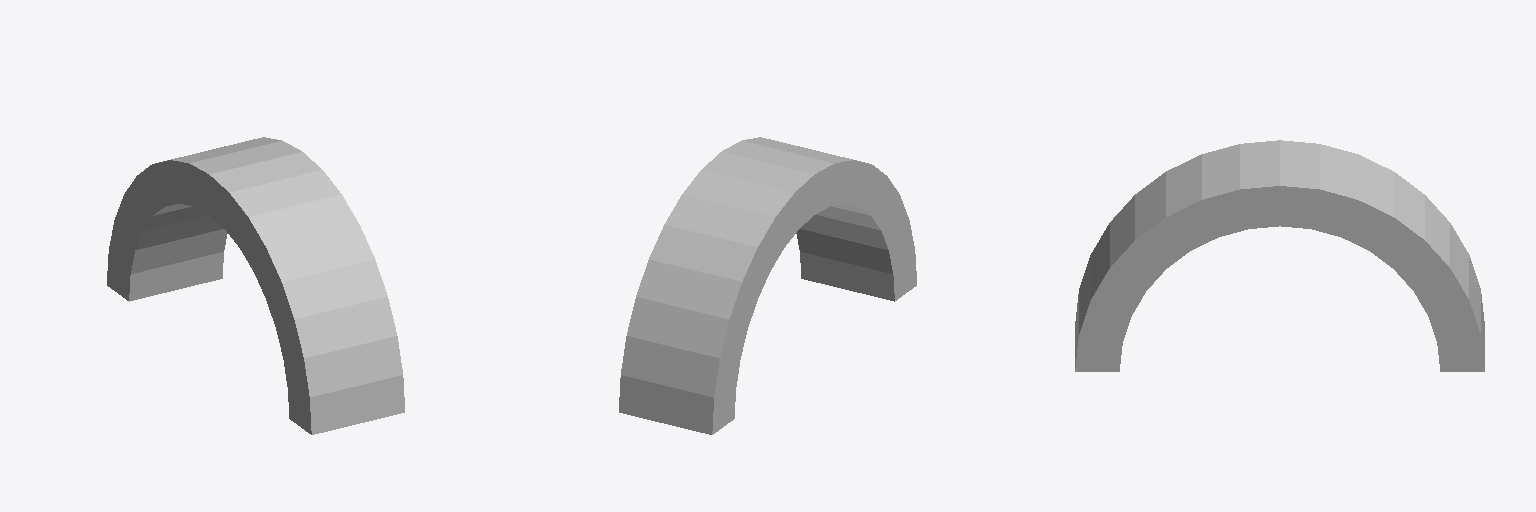
File: Archway.obj
3 views of the same model, side by side, from view 1: azimuth 30°, elevation 25°; view 2: azimuth 150°, elevation 25°; view 3: azimuth 270°, elevation 25° (orthographic).
Size of the model in its own units: 1.51 by 2.86 by 5.72.